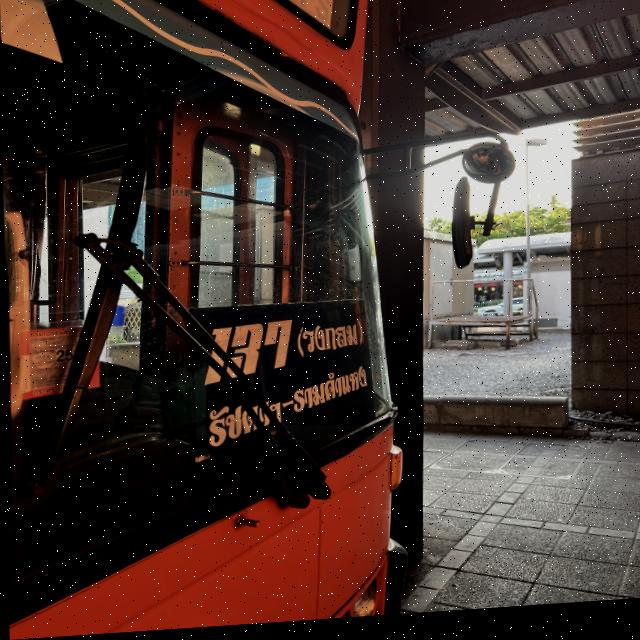Destination Sign: (182, 300, 379, 493)
